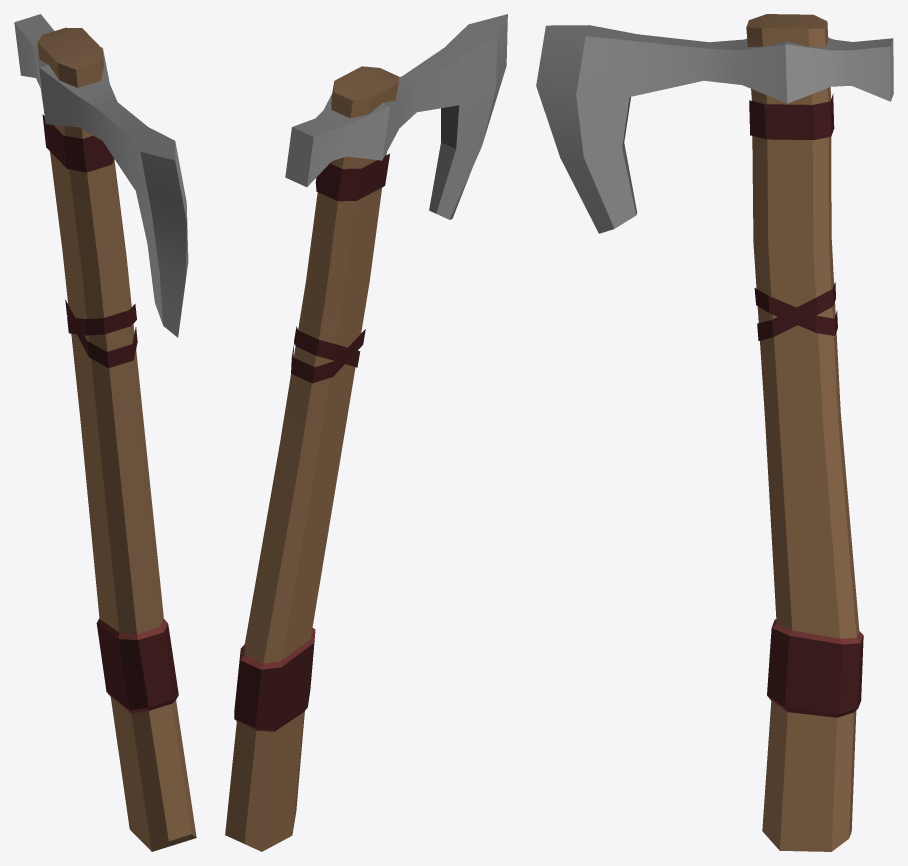
File: Tomahawk_Hand.glb
3 renders of one model, left to right at view 1: azimuth 30°, elevation 25°; view 2: azimuth 150°, elevation 25°; view 3: azimuth 270°, elevation 25°, orthographic. The views are drawn at different scales.
Parts seen in each view (by area): view 1: tomahawk; view 2: tomahawk; view 3: tomahawk.
Boxes of the visible parts, x1,y1,x2,y2 form: tomahawk: (14, 14, 196, 851); tomahawk: (225, 14, 507, 851); tomahawk: (536, 14, 893, 851).
Size of the model in its own units: 0.1252 by 0.6108 by 0.2532.
Materials: 1 (1 with a texture image).
